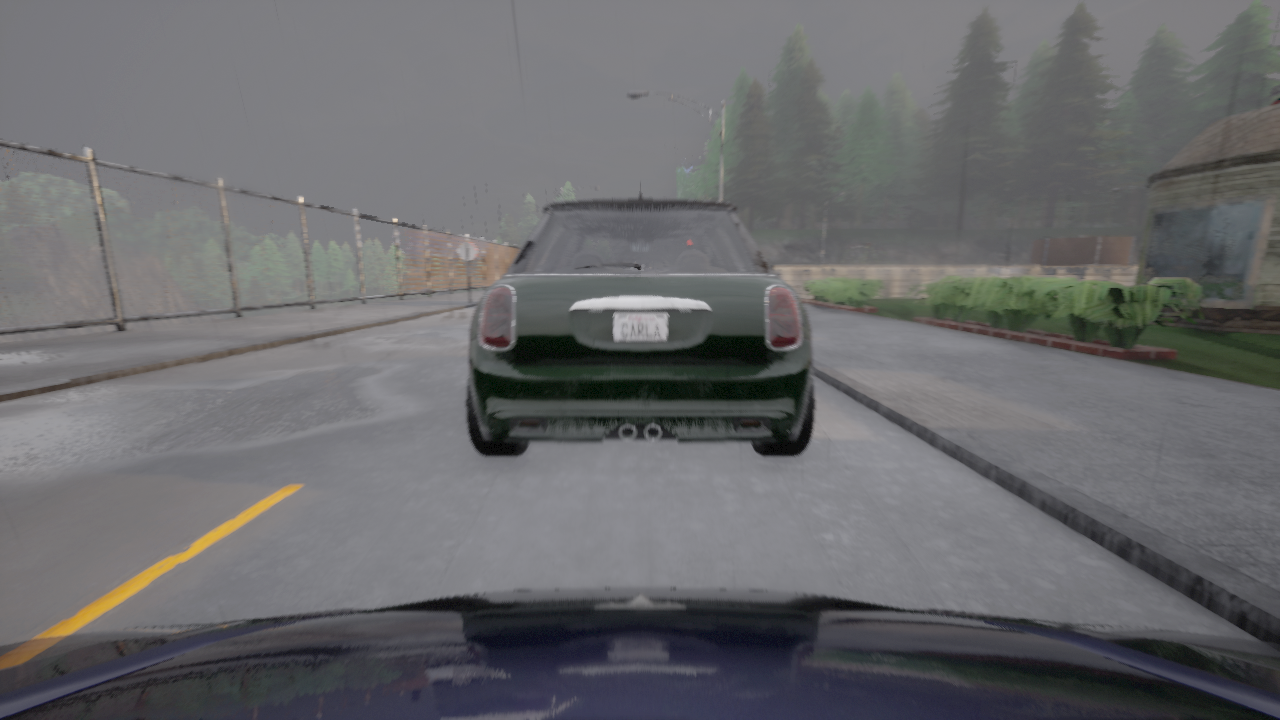cyclist: (0, 588, 1279, 719), (466, 183, 813, 455)
